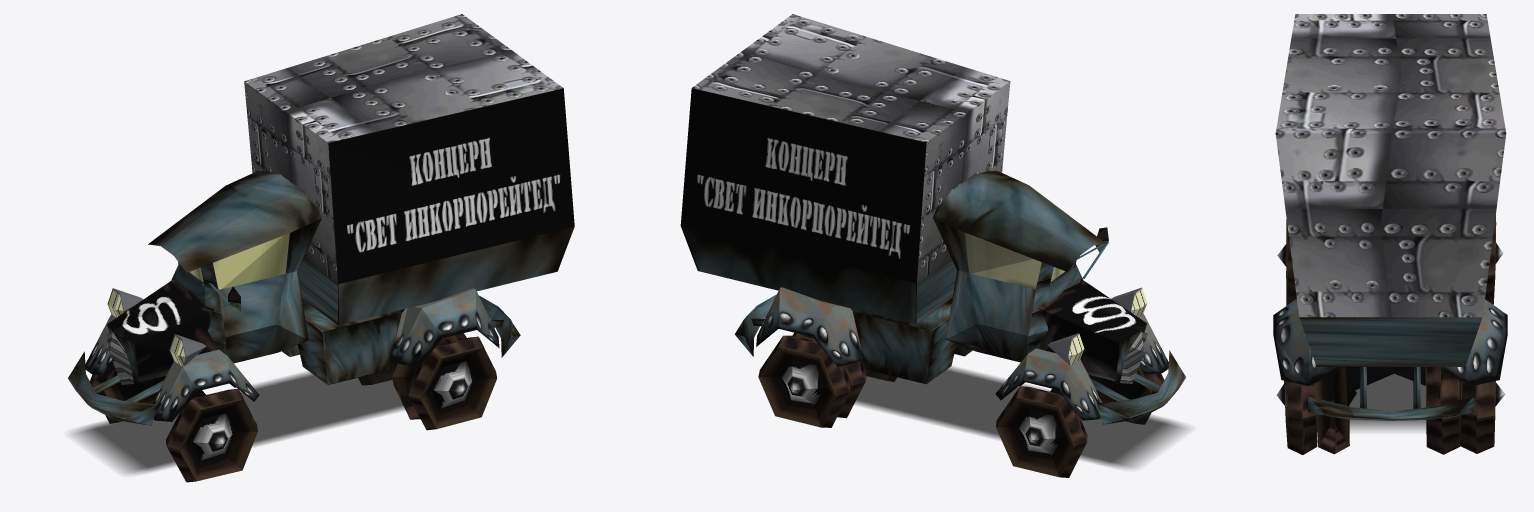
File: LKW_CL~1_new [Ministry]_2921.glb
The picture shows the model from 3 angles, left to right: view 1: azimuth 30°, elevation 25°; view 2: azimuth 150°, elevation 25°; view 3: azimuth 270°, elevation 25°; orthographic projection. The views are drawn at different scales.
Visible parts, largest first — view 1: pPlaneShape22, pPlaneShape20, polySurfaceShape51, pPlaneShape23, pPlaneShape13, polySurfaceShape44, vrlShape, hrlShape, pPlaneShape17, pCubeShape8, pPlaneShape10, pPlaneShape8 (+8 smaller); view 2: pPlaneShape21, pPlaneShape20, polySurfaceShape51, pPlaneShape13, pPlaneShape23, polySurfaceShape53, vrrShape, hrrShape, pCubeShape4, pPlaneShape17, pPlaneShape9, pPlaneShape7 (+8 smaller); view 3: pPlaneShape20, pPlaneShape13, pPlaneShape10, pPlaneShape23, pPlaneShape9, hrr2Shape, hrrShape, pCylinderShape14, hrlShape, hrl2Shape, polySurfaceShape35, vrlShape (+4 smaller).
Part boxes in pixels (<box>): pPlaneShape22: <box>328,88,574,284</box>; pPlaneShape20: <box>244,14,563,283</box>; polySurfaceShape51: <box>148,171,321,356</box>; pPlaneShape23: <box>71,359,413,473</box>; pPlaneShape13: <box>297,226,574,324</box>; polySurfaceShape44: <box>213,233,289,363</box>; vrlShape: <box>166,389,257,482</box>; hrlShape: <box>407,336,496,430</box>; pPlaneShape17: <box>107,279,219,382</box>; pCubeShape8: <box>298,303,401,384</box>; pPlaneShape10: <box>390,288,499,368</box>; pPlaneShape8: <box>152,349,259,421</box>; pPlaneShape21: <box>680,88,926,283</box>; pPlaneShape20: <box>692,14,1010,283</box>; polySurfaceShape51: <box>933,170,1106,355</box>; pPlaneShape13: <box>681,226,956,324</box>; pPlaneShape23: <box>847,358,1188,468</box>; polySurfaceShape53: <box>964,232,1041,362</box>; vrrShape: <box>996,386,1087,477</box>; hrrShape: <box>758,335,850,427</box>; pCubeShape4: <box>853,302,956,384</box>; pPlaneShape17: <box>1035,279,1146,381</box>; pPlaneShape9: <box>756,287,863,366</box>; pPlaneShape7: <box>995,348,1102,420</box>; pPlaneShape20: <box>1275,14,1506,317</box>; pPlaneShape13: <box>1299,317,1482,366</box>; pPlaneShape10: <box>1273,298,1339,385</box>; pPlaneShape23: <box>1323,373,1426,430</box>; pPlaneShape9: <box>1441,299,1507,385</box>; hrr2Shape: <box>1425,367,1461,454</box>; hrrShape: <box>1459,381,1505,453</box>; pCylinderShape14: <box>1308,396,1473,420</box>; hrlShape: <box>1276,380,1317,454</box>; hrl2Shape: <box>1315,367,1356,454</box>; polySurfaceShape35: <box>1328,367,1408,401</box>; vrlShape: <box>1277,219,1296,305</box>.
Bounding box in the file's own units: 0.8296 × 0.5212 × 0.3296.
Materials: 43 (39 with a texture image).
